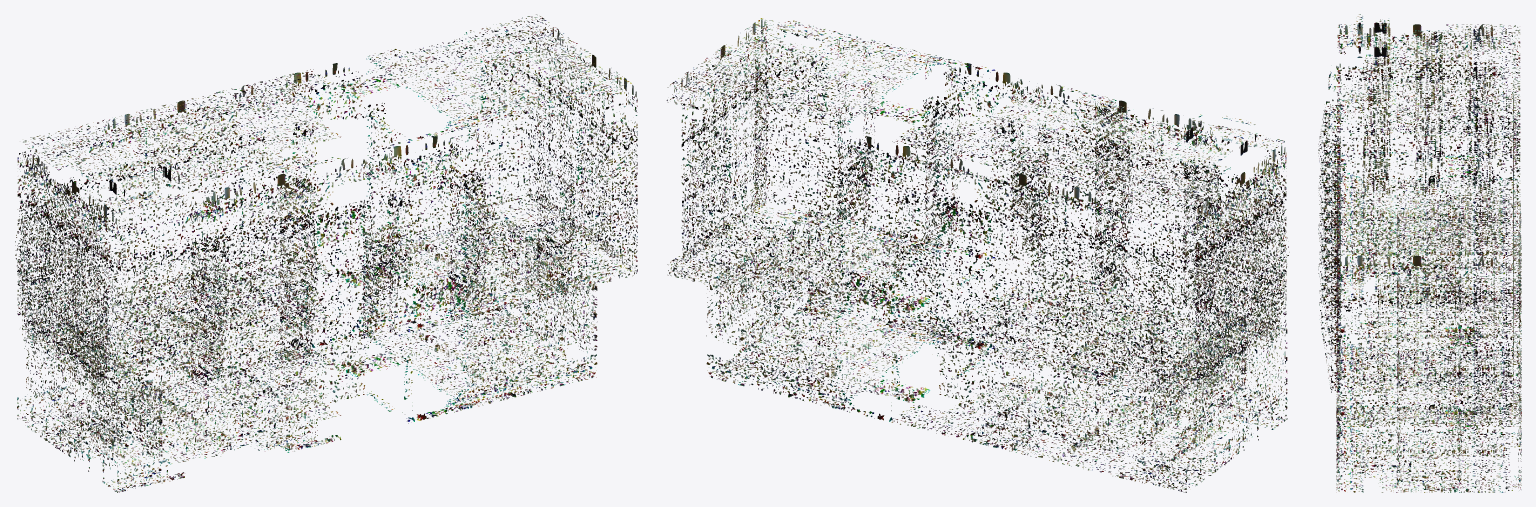
The model's file is SideLengthOffice.fbx.
3 views of the same model, side by side, from view 1: azimuth 30°, elevation 25°; view 2: azimuth 150°, elevation 25°; view 3: azimuth 270°, elevation 25° (orthographic). The views are drawn at different scales.
Visible parts, largest first — view 1: Cube; view 2: Cube; view 3: Cube.
Boxes of the visible parts, x1,y1,x2,y2 form: Cube: (15, 14, 637, 492); Cube: (666, 18, 1289, 492); Cube: (1318, 14, 1521, 492).
Bounding box in the file's own units: 302 × 162 × 108.
1 material, 1 textured.
